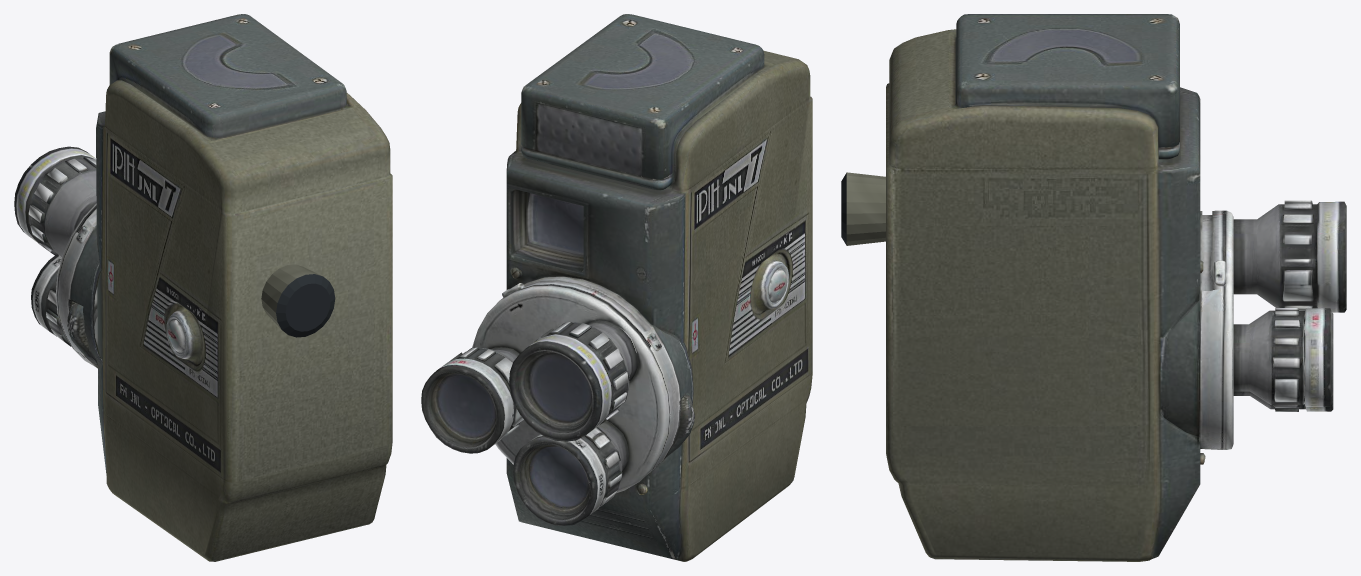
File: camera.glb
The picture shows the model from 3 angles, left to right: view 1: azimuth 30°, elevation 25°; view 2: azimuth 150°, elevation 25°; view 3: azimuth 270°, elevation 25°; orthographic projection. The views are drawn at different scales.
Parts seen in each view (by area): view 1: PhotoCamera; view 2: PhotoCamera; view 3: PhotoCamera.
Part boxes in pixels (x1,y1,x2,y2): PhotoCamera: (14,14,392,561); PhotoCamera: (421,14,812,561); PhotoCamera: (841,14,1346,561).
Bounding box in the file's own units: 0.069 × 0.145 × 0.141.
Materials: 2 (1 with a texture image).
